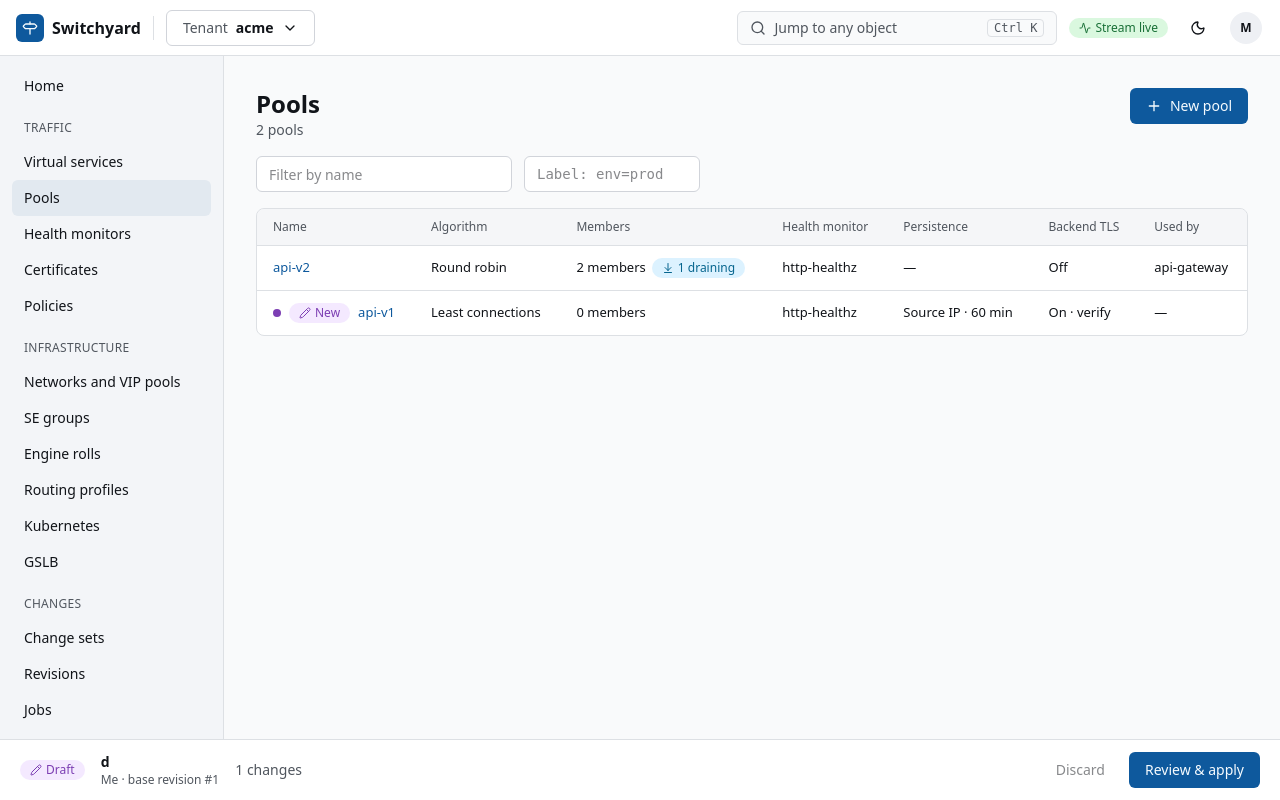
Test: pools › shows the tag error on the tag field and clears discovery with null
Step 1. Click the button "New pool" → (1189,106), box top-left (1130, 88), bottom-right (1248, 124)
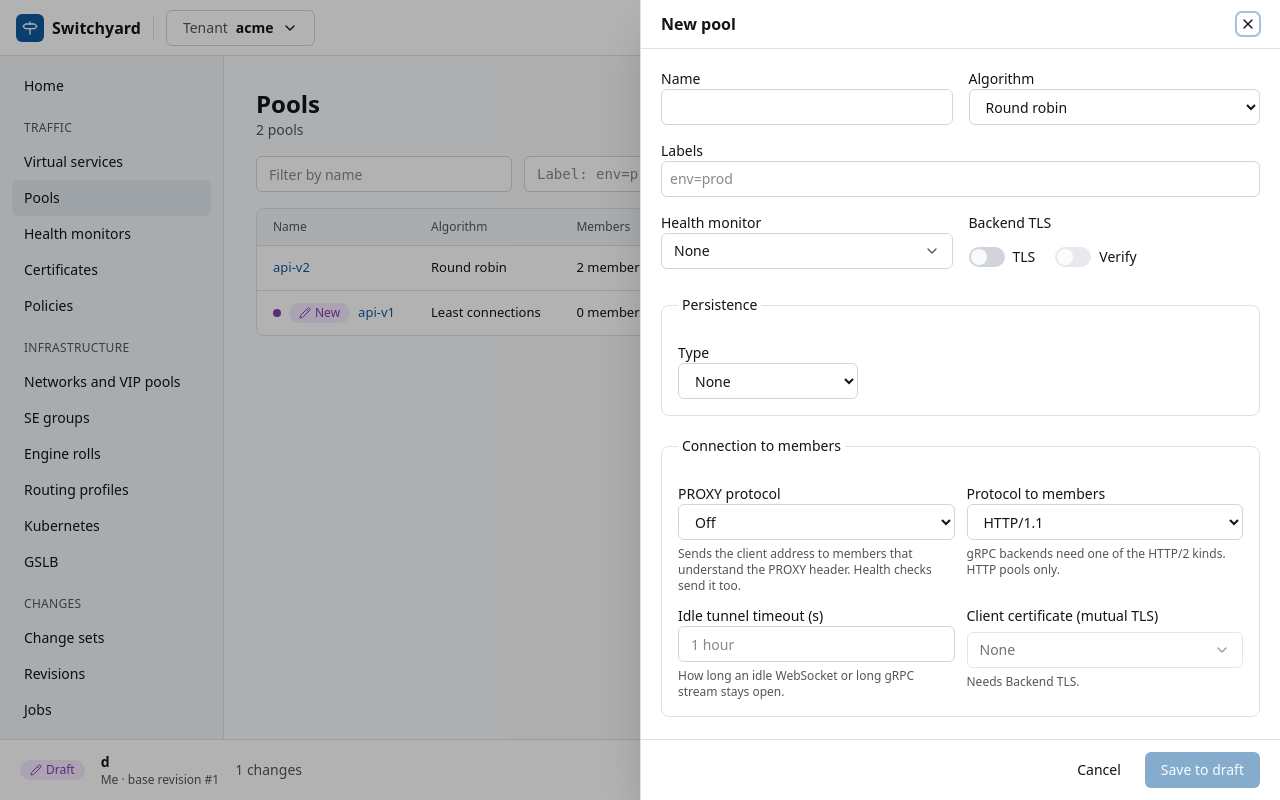
Step 2. Type "web" into the field labelled "Name" → (807,107), box top-left (661, 89), bottom-right (952, 125)
(page scrolled)
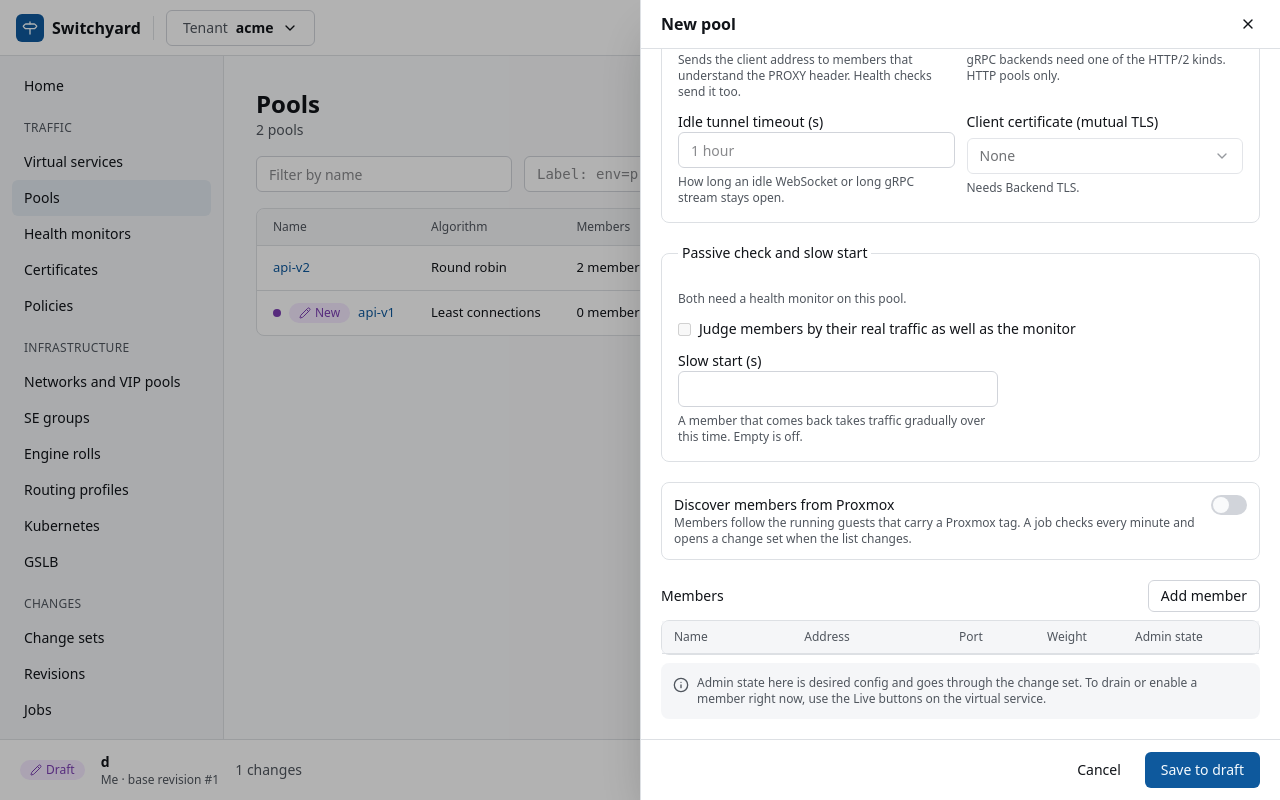
Step 3. Click the switch named "Discover members from Proxmox" → (1229,505), box top-left (1211, 495), bottom-right (1247, 515)
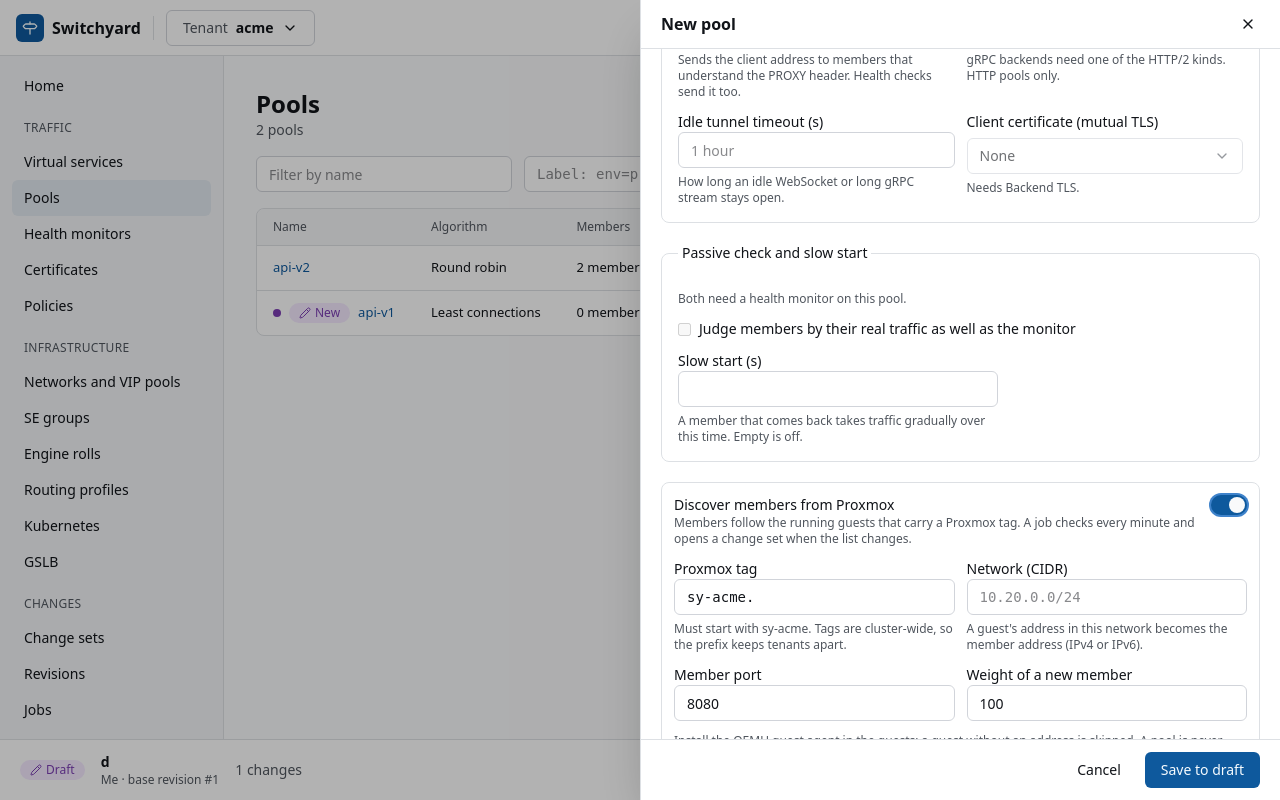
Step 4. Click the button "Save to draft" → (1202,770), box top-left (1145, 752), bottom-right (1260, 788)
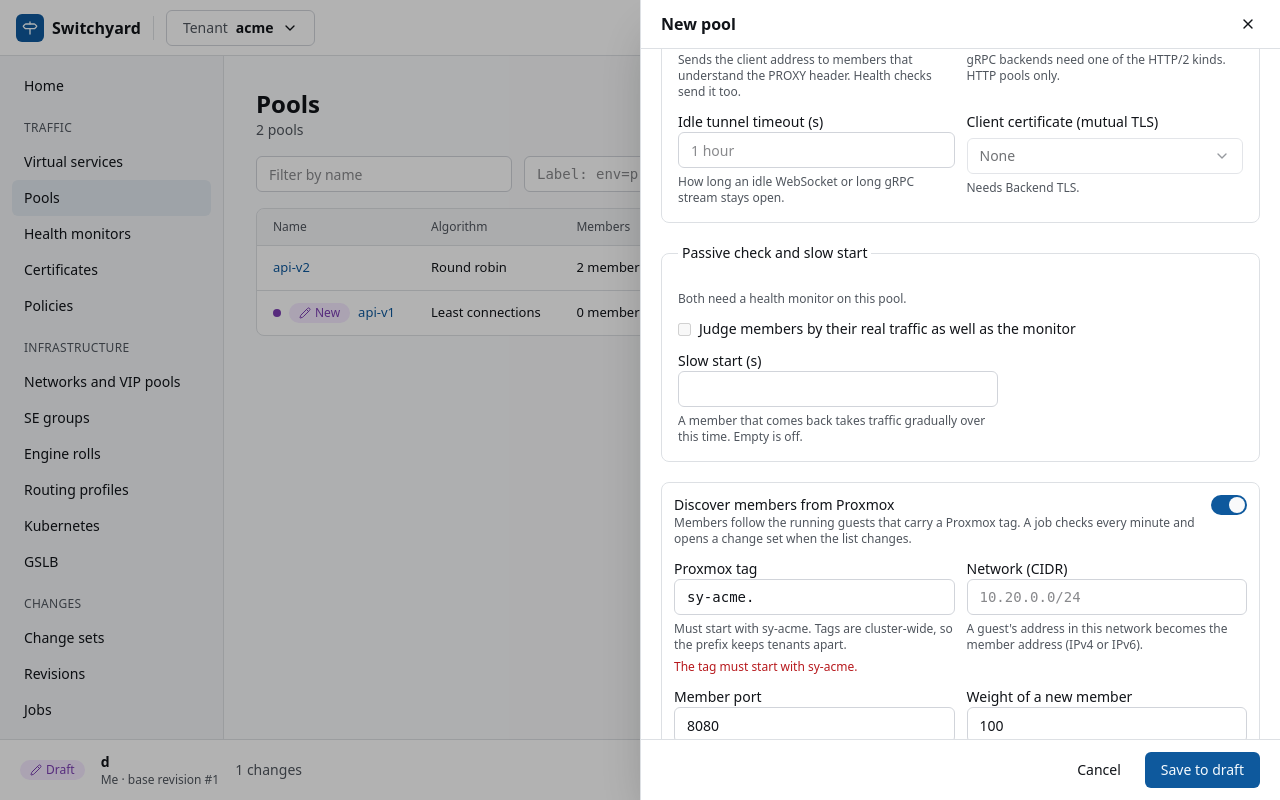
Expected: the text "The tag must start with sy-acme." is shown, top-left (674, 658), bottom-right (857, 675)
